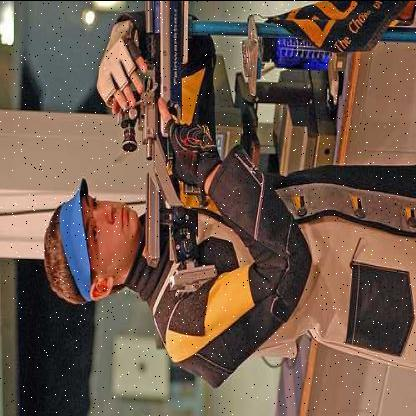rifle: (124, 1, 237, 326)
